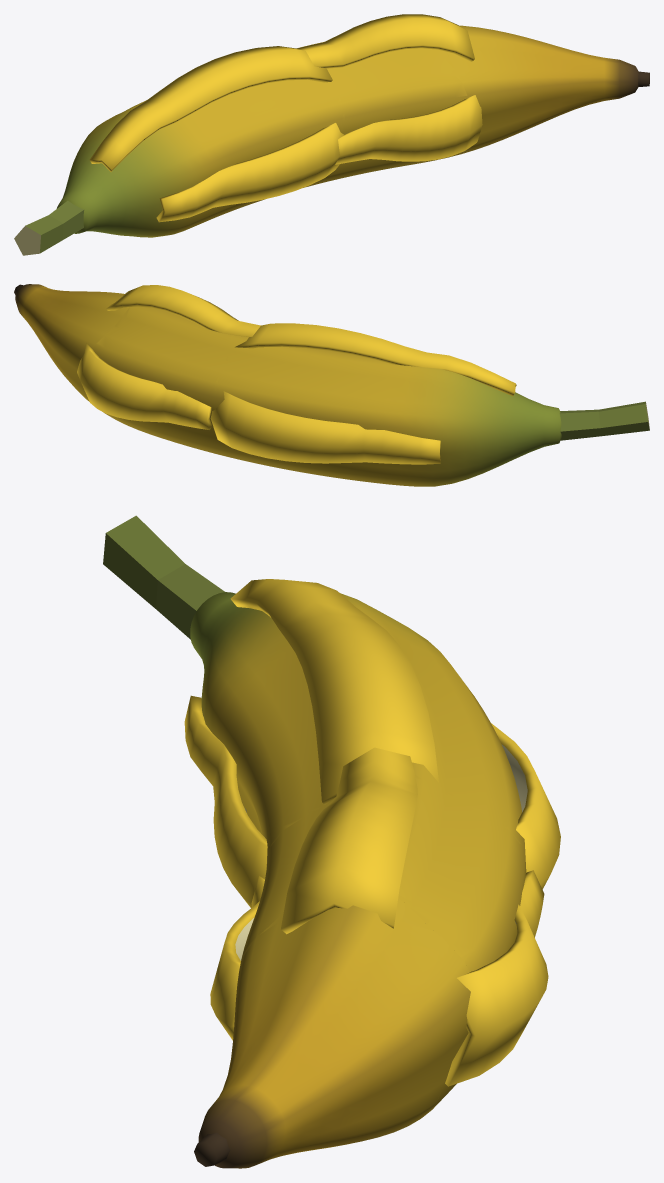
File: banana_held.glb
3 views of the same model, one above another, from view 1: azimuth 30°, elevation 25°; view 2: azimuth 150°, elevation 25°; view 3: azimuth 270°, elevation 25° (orthographic). The views are drawn at different scales.
Visible parts, largest first — view 1: eat_0_Body, eat_2_Flaps, eat_1_Flaps, eat_0_Stalk, eat_1_Body; view 2: eat_0_Body, eat_2_Flaps, eat_1_Flaps, eat_1_Body, eat_0_Stalk, eat_2_Body; view 3: eat_0_Body, eat_2_Flaps, eat_1_Flaps, eat_1_Body, eat_0_Stalk, eat_2_Body.
Boxes of the visible parts, left/top/right/bottom form: eat_0_Body: left=56, top=25, right=638, bottom=237; eat_2_Flaps: left=89, top=46, right=343, bottom=222; eat_1_Flaps: left=296, top=14, right=482, bottom=164; eat_0_Stalk: left=14, top=200, right=84, bottom=255; eat_1_Body: left=76, top=51, right=478, bottom=236; eat_0_Body: left=15, top=284, right=561, bottom=486; eat_2_Flaps: left=210, top=323, right=516, bottom=464; eat_1_Flaps: left=77, top=285, right=260, bottom=429; eat_1_Body: left=92, top=306, right=559, bottom=482; eat_0_Stalk: left=559, top=401, right=649, bottom=440; eat_2_Body: left=214, top=335, right=511, bottom=486; eat_0_Body: left=190, top=592, right=526, bottom=1168; eat_2_Flaps: left=184, top=579, right=560, bottom=907; eat_1_Flaps: left=210, top=747, right=548, bottom=1086; eat_1_Body: left=241, top=603, right=525, bottom=1114; eat_0_Stalk: left=103, top=515, right=225, bottom=639; eat_2_Body: left=267, top=658, right=524, bottom=861.
Size of the model in its own units: 0.2092 by 0.0424 by 0.0671.
